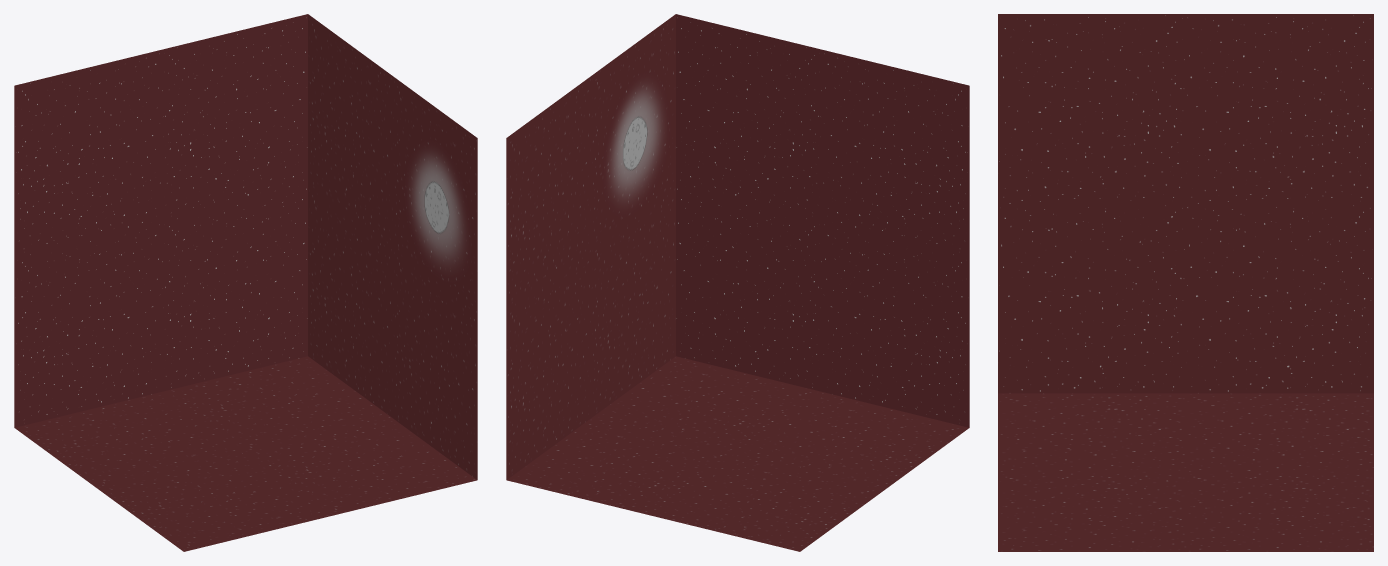
File: EndCeuVermelho.glb
The picture shows the model from 3 angles, left to right: view 1: azimuth 30°, elevation 25°; view 2: azimuth 150°, elevation 25°; view 3: azimuth 270°, elevation 25°; orthographic projection. The views are drawn at different scales.
Visible parts, largest first — view 1: Setor_0, Setor_1; view 2: Setor_0, Setor_1; view 3: Setor_-2, Setor_0.
Boxes of the visible parts, box(x1,y1,x2,y2) form: Setor_0: box(14, 14, 476, 551); Setor_1: box(308, 14, 477, 479); Setor_0: box(507, 14, 969, 551); Setor_1: box(506, 14, 675, 479); Setor_-2: box(998, 14, 1373, 393); Setor_0: box(998, 393, 1373, 551).
Bounding box in the file's own units: 88 × 98 × 88.
1 material, 1 textured.
